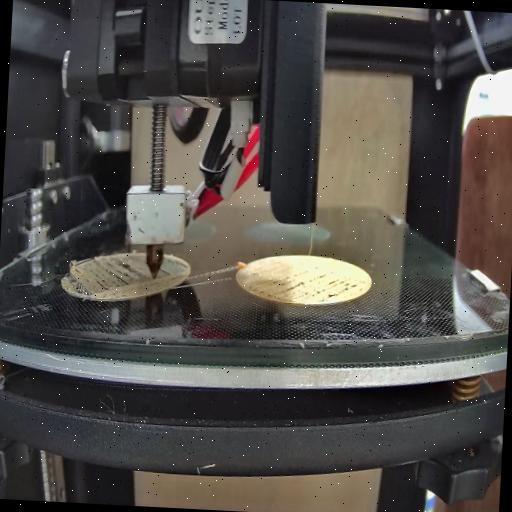under_extrusion: (246, 265, 368, 302), (64, 250, 140, 302), (160, 246, 194, 280)
